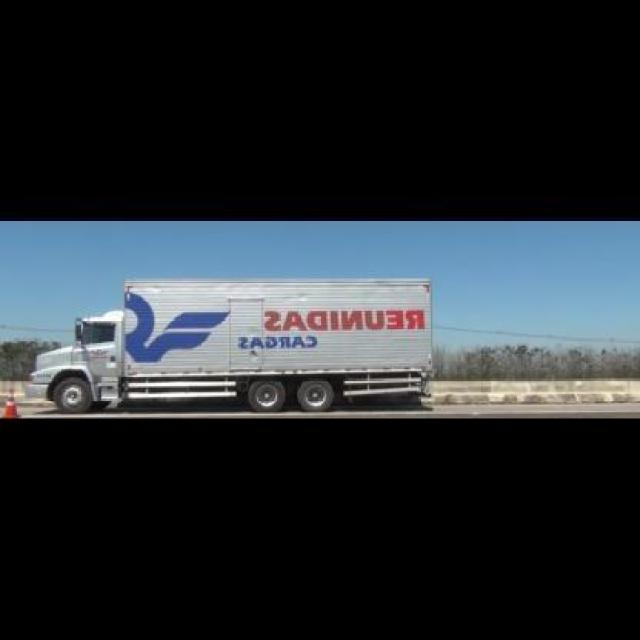truck: (24, 282, 432, 414)
